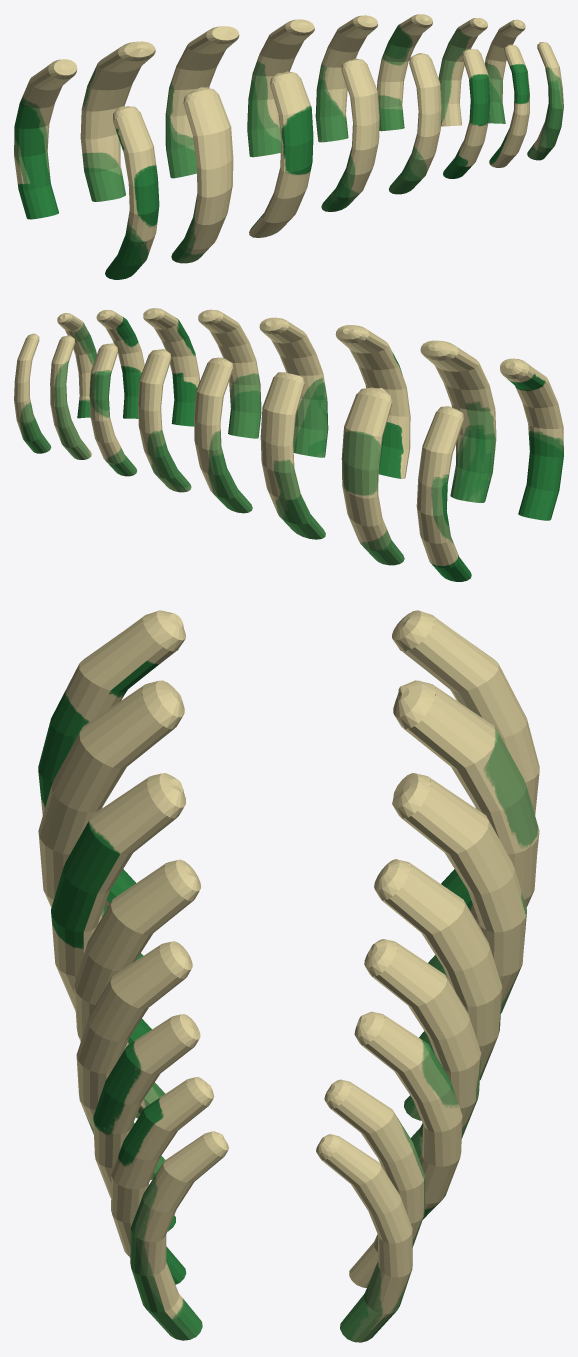
The model's file is bone_carcass 1.fbx.
3 views of the same model, one above another, from view 1: azimuth 30°, elevation 25°; view 2: azimuth 150°, elevation 25°; view 3: azimuth 270°, elevation 25° (orthographic). The views are drawn at different scales.
Parts seen in each view (by area): view 1: Cylinder; view 2: Cylinder; view 3: Cylinder.
Part boxes in pixels (box(x1,y1,x2,y2)): Cylinder: box(14, 14, 563, 279); Cylinder: box(14, 308, 563, 581); Cylinder: box(38, 610, 539, 1342).
Bounding box in the file's own units: 23.59 × 7.65 × 10.94.
